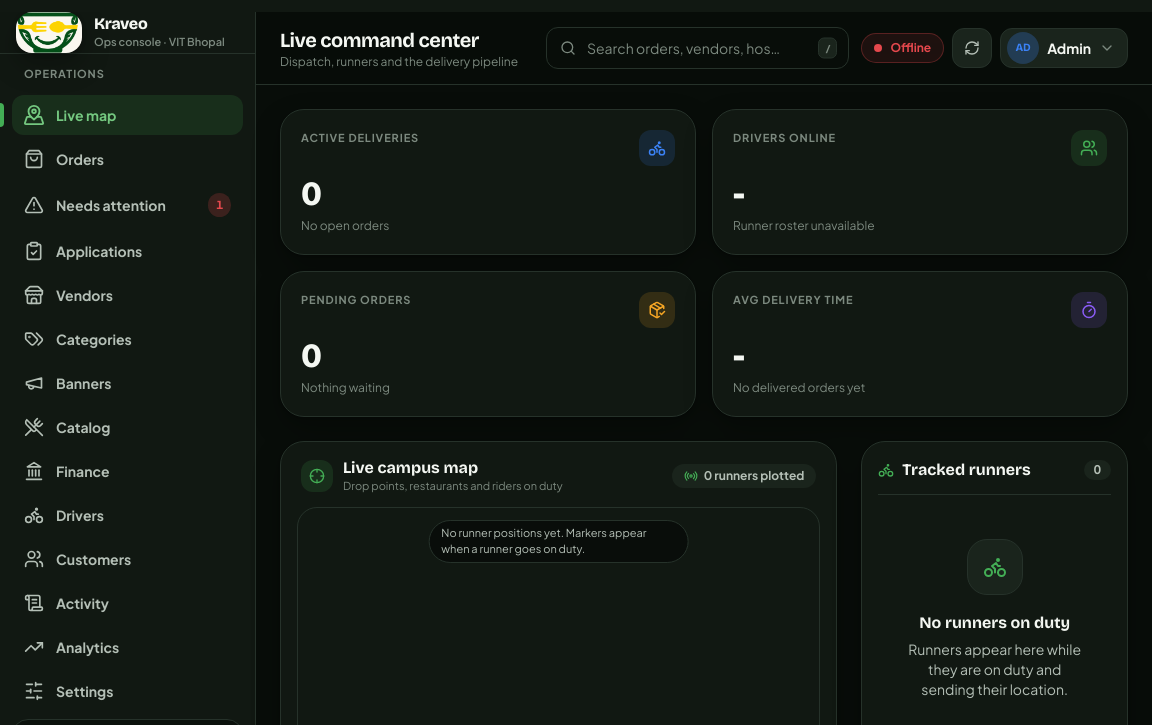
Test case: Banners tab › the sidebar has a Banners entry that opens the panel with the header title and no search box
Click the button "Banners": click(128, 382) left=12, top=362, right=243, bottom=402
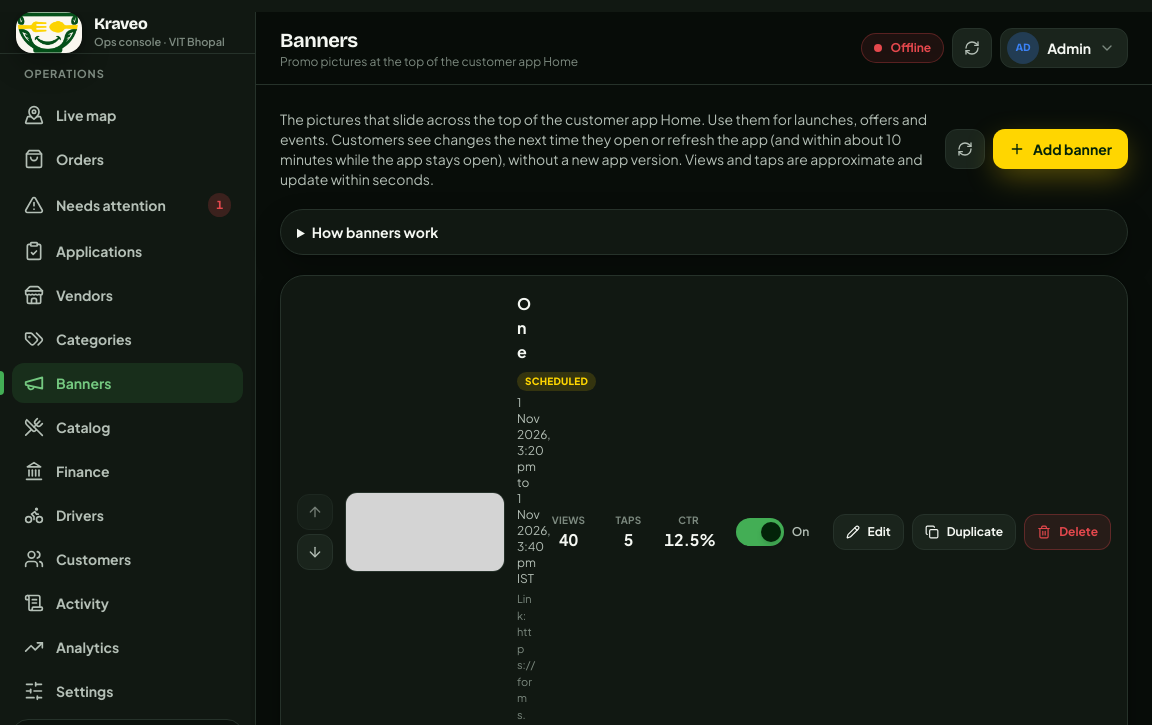
Expected: the heading "Banners" is shown, left=280, top=28, right=358, bottom=52
Expected: the number of list items is 2
Expected: the search field with id "global-search" is gone
